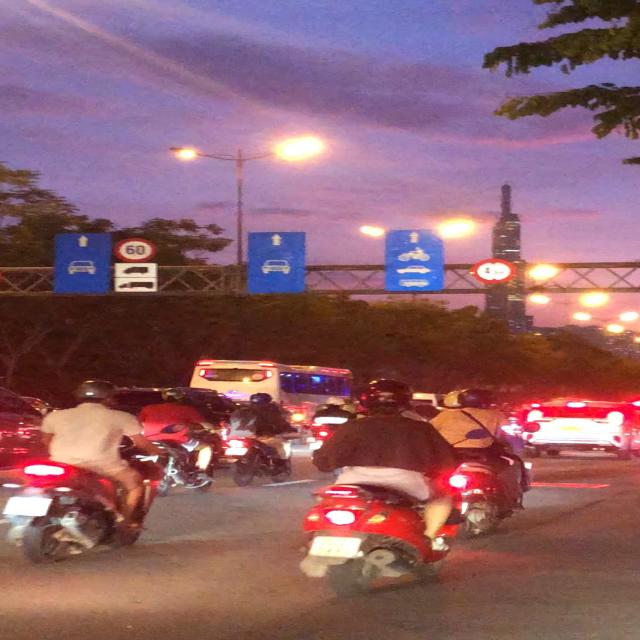Bien bao han che chieu cao: (468, 255, 519, 287)
Bien bao toc do toi da cho phep: (110, 236, 156, 264)
